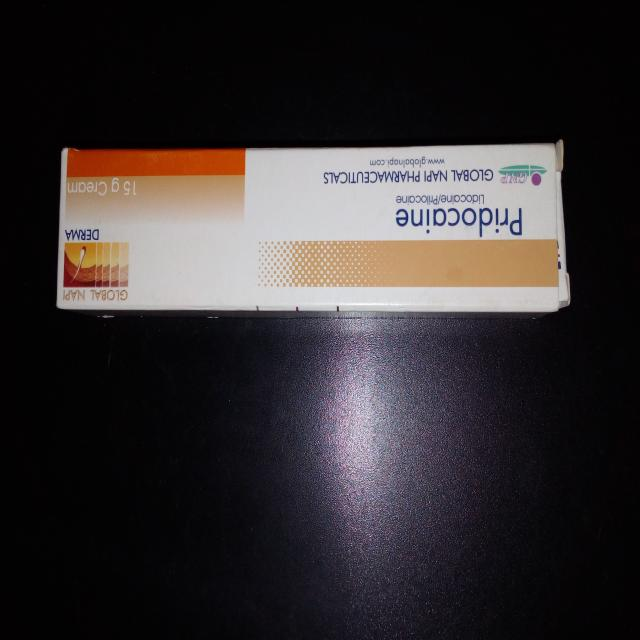Medicine: (55, 137, 573, 324)
